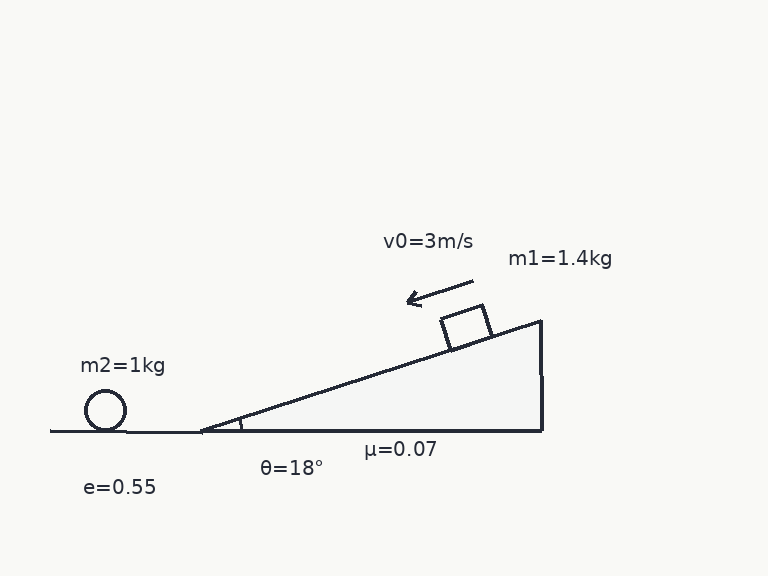ball: (82, 387, 128, 433)
block: (438, 304, 494, 352)
ramp: (199, 319, 543, 433)
